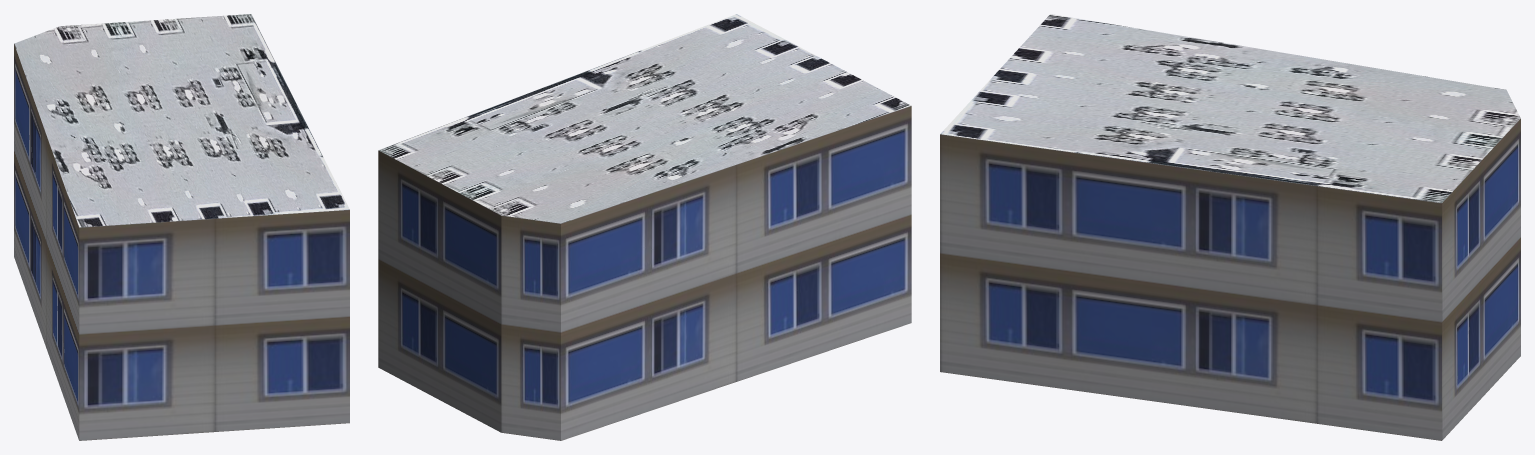
The model's file is ResTex__2551.fbx.
The picture shows the model from 3 angles, left to right: view 1: azimuth 30°, elevation 25°; view 2: azimuth 150°, elevation 25°; view 3: azimuth 270°, elevation 25°; orthographic projection. The views are drawn at different scales.
Parts seen in each view (by area): view 1: CityEngineMaterial_23_m, CityEngineMaterial_m; view 2: CityEngineMaterial_23_m, CityEngineMaterial_m; view 3: CityEngineMaterial_23_m, CityEngineMaterial_m.
Part boxes in pixels (x1,y1,x2,y2): CityEngineMaterial_23_m: [14, 44, 349, 440]; CityEngineMaterial_m: [14, 14, 349, 227]; CityEngineMaterial_23_m: [378, 106, 911, 440]; CityEngineMaterial_m: [379, 14, 910, 223]; CityEngineMaterial_23_m: [940, 118, 1520, 440]; CityEngineMaterial_m: [940, 14, 1520, 202].
Size of the model in its own units: 10.23 by 6 by 13.28.
Materials: 2 (2 with a texture image).
